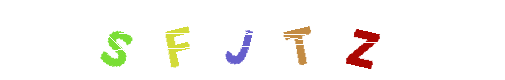F: (195, 0, 275, 80)
J: (200, 0, 280, 80)
S: (76, 0, 156, 80)
T: (213, 0, 293, 80)
Z: (322, 0, 402, 80)
